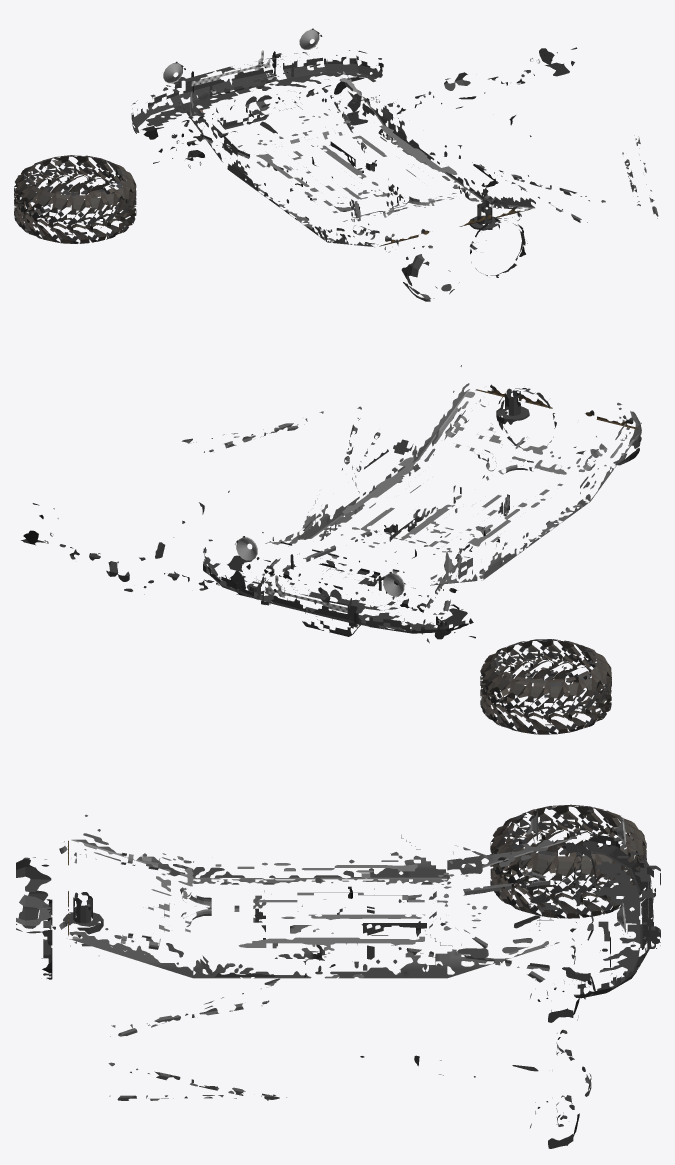
The model's file is chassis.fbx.
3 views of the same model, one above another, from view 1: azimuth 30°, elevation 25°; view 2: azimuth 150°, elevation 25°; view 3: azimuth 270°, elevation 25° (orthographic). The views are drawn at different scales.
Visible parts, largest first — view 1: frame, tyre, rear_axle, front_axle, smallcar_additive; view 2: frame, tyre, front_axle, rear_axle, smallcar_additive; view 3: frame, tyre, front_axle, rear_axle, frount_left_bars, frount_right_bars, back_right_bars, back_left_bars.
Part boxes in pixels (x1,y1,x2,y2): frame: (131, 28, 535, 301); tyre: (14, 155, 136, 243); rear_axle: (347, 47, 577, 136); front_axle: (141, 71, 369, 178); smallcar_additive: (163, 29, 319, 83); frame: (203, 365, 641, 636); tyre: (480, 639, 611, 734); front_axle: (227, 536, 475, 643); rear_axle: (21, 490, 270, 597); smallcar_additive: (236, 537, 404, 596); frame: (16, 814, 660, 998); tyre: (490, 804, 646, 918); front_axle: (361, 842, 596, 1012); rear_axle: (360, 977, 591, 1148); frount_left_bars: (398, 845, 569, 902); frount_right_bars: (398, 929, 566, 982); back_right_bars: (108, 1062, 286, 1100); back_left_bars: (110, 978, 279, 1036).
Bounding box in the file's own units: 469 × 132 × 379.
Materials: 4 (3 with a texture image).
